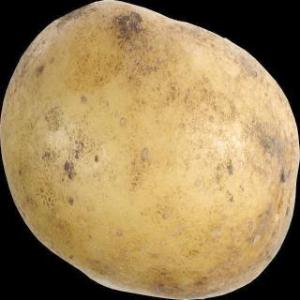potato: (3, 3, 298, 297)
